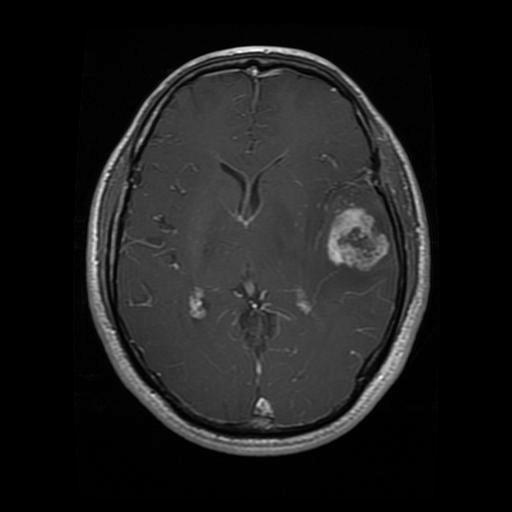Tumour-Glioma: (330, 197, 399, 290)
